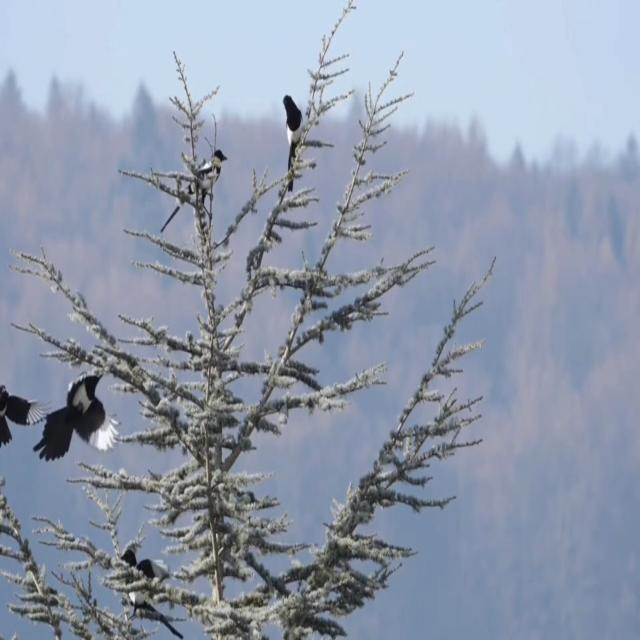bird: (42, 336, 120, 476), (168, 126, 232, 239), (268, 80, 320, 197), (0, 364, 48, 467), (118, 525, 167, 607)
